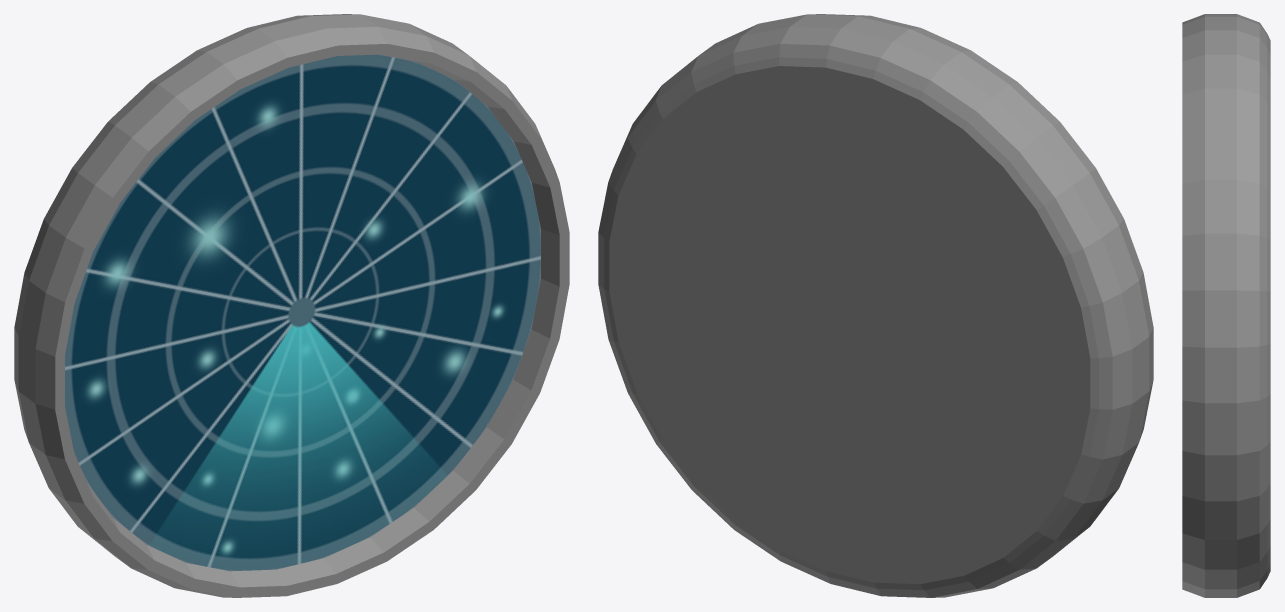
Rendered from Radar.fbx.
The picture shows the model from 3 angles, left to right: view 1: azimuth 30°, elevation 25°; view 2: azimuth 150°, elevation 25°; view 3: azimuth 270°, elevation 25°; orthographic projection. The views are drawn at different scales.
Parts seen in each view (by area): view 1: Radar; view 2: Radar; view 3: Radar.
Part boxes in pixels (<box>): Radar: <box>14,14,569,597</box>; Radar: <box>598,14,1153,597</box>; Radar: <box>1182,14,1270,597</box>.
Size of the model in its own units: 19.58 by 19.58 by 2.98.
Materials: 1 (1 with a texture image).
